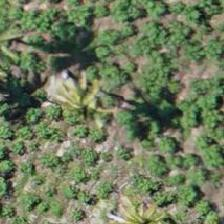coconut_tree: (37, 61, 127, 151)
